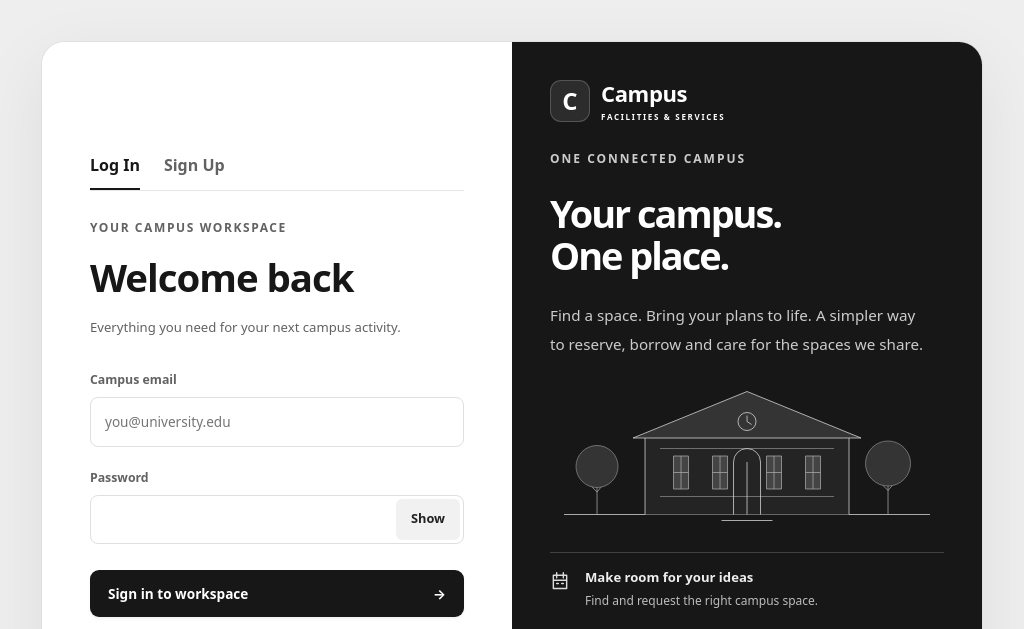
Test: signup links return to login and successful login opens the dashboard
Click the link "Sign Up": [194, 165] box [164,154,225,176]
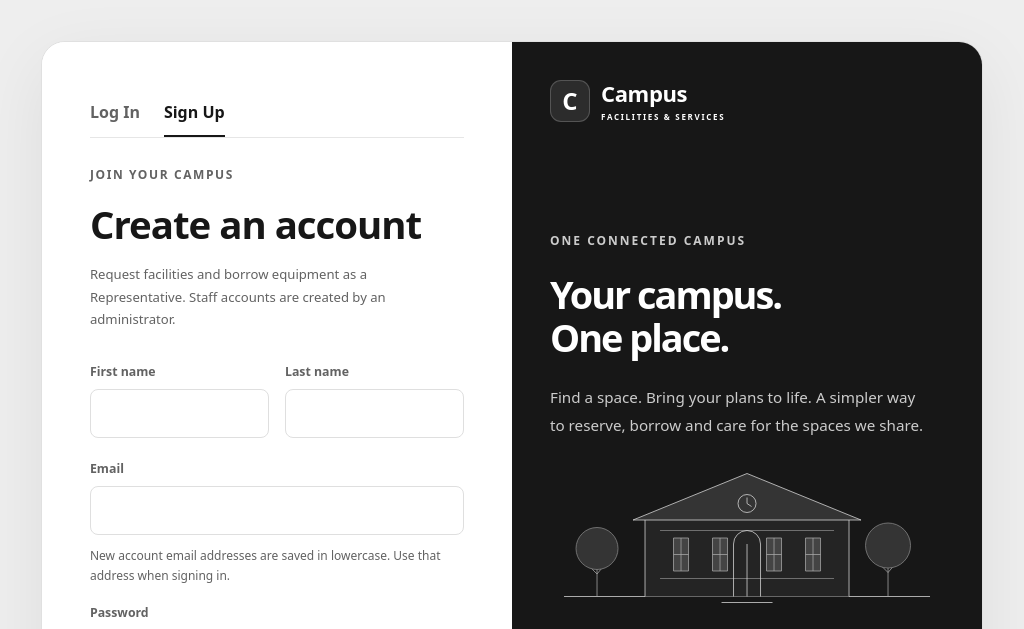
Result: the heading "Create an account" is shown at [90,199,464,251]
Click the link "Log In": [115, 112] box [90,101,140,123]
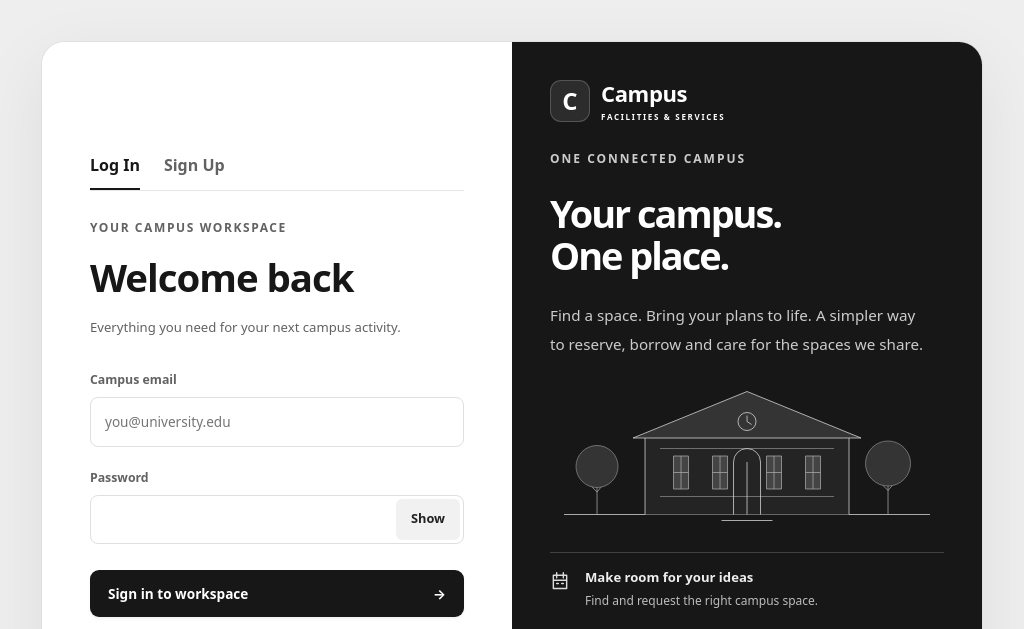
Result: the heading "Welcome back" is shown at [90,251,354,303]
In the field labelled "Campus email": [277, 422] box [90,397,464,446], type "fixture@example.test"
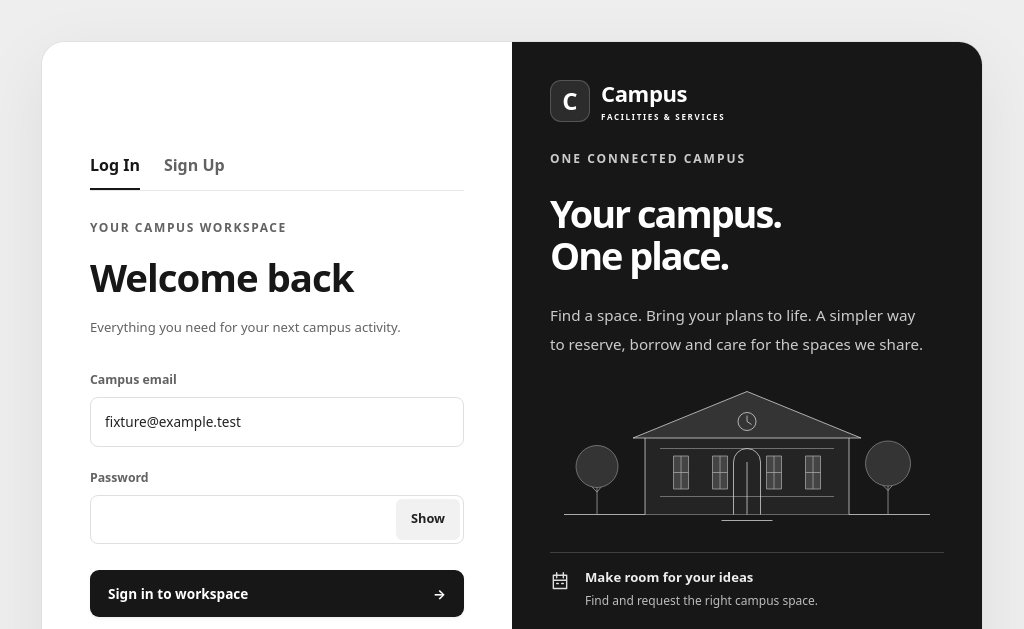
In the password field labelled "Password": [277, 519] box [90,495,464,544], type "synthetic-password"
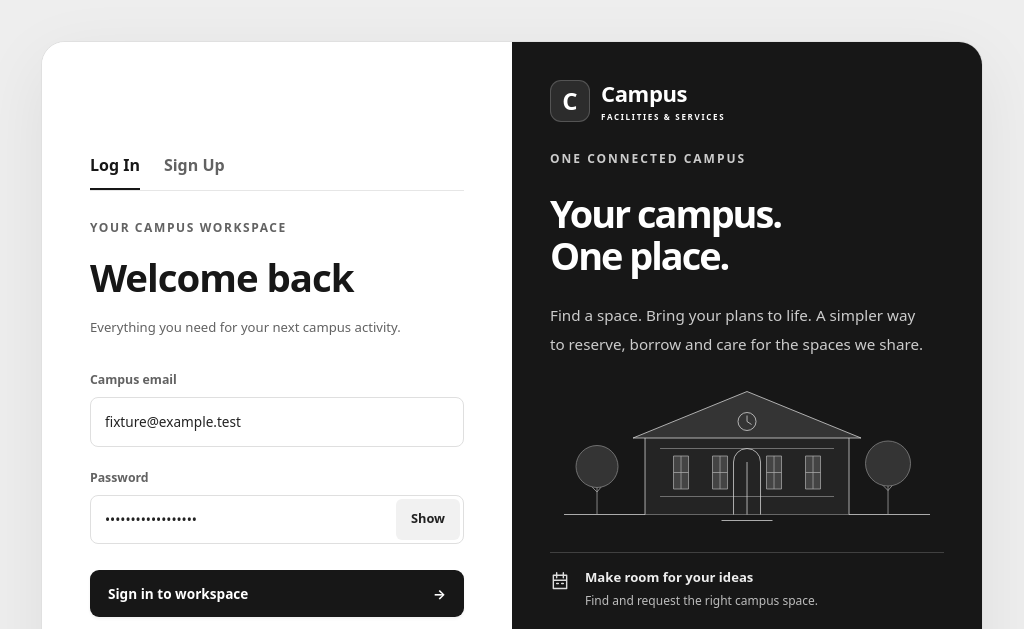
Click the button "Sign in to workspace →": [178, 593] box [90,570,464,617]
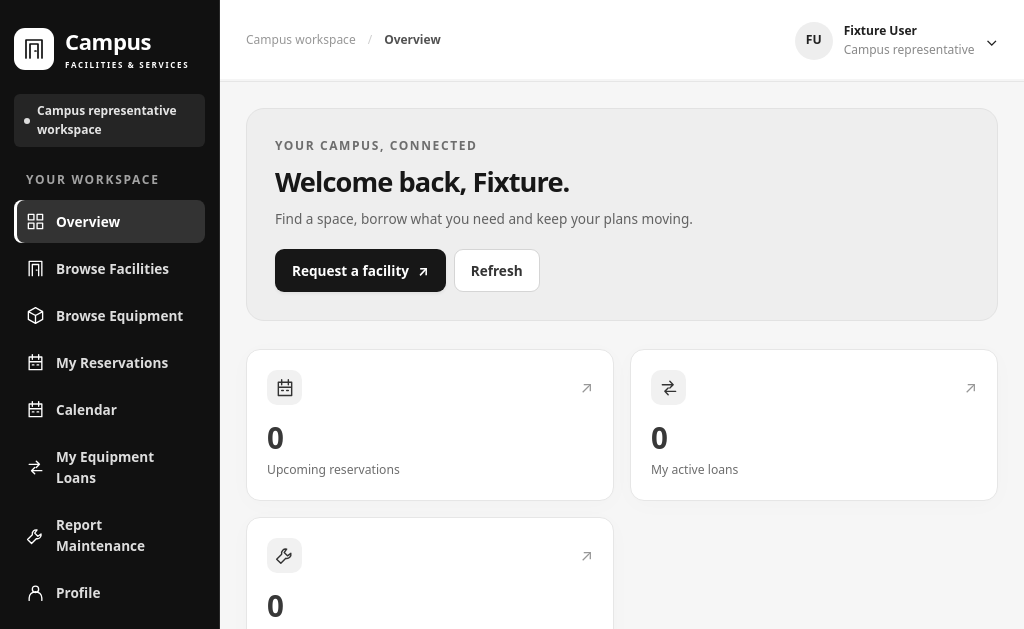
Result: the heading "Welcome back, Fixture." is shown at [275,163,569,200]
